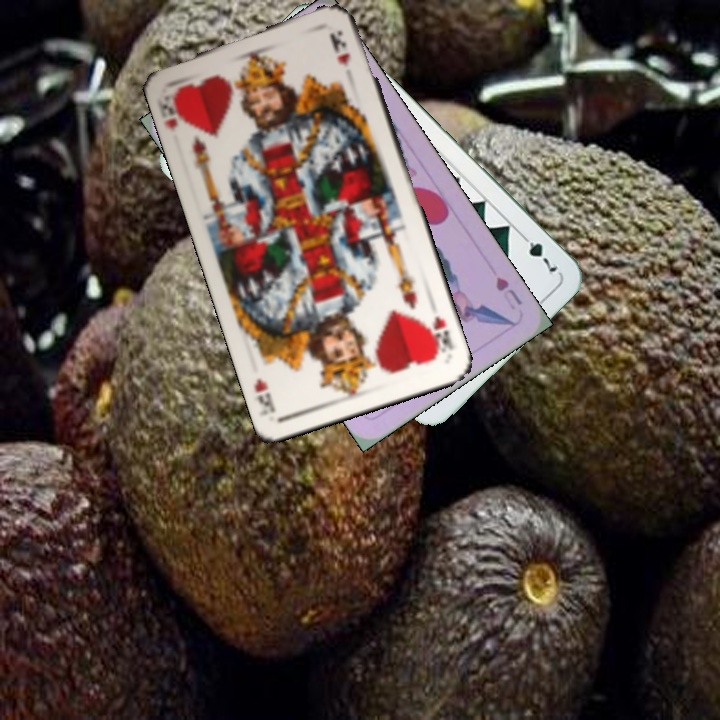G7: (515, 228, 561, 275)
HK: (155, 85, 190, 134), (425, 312, 457, 357)
HU: (491, 273, 525, 308)
